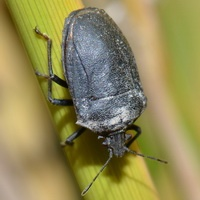insect: (35, 8, 146, 195)
